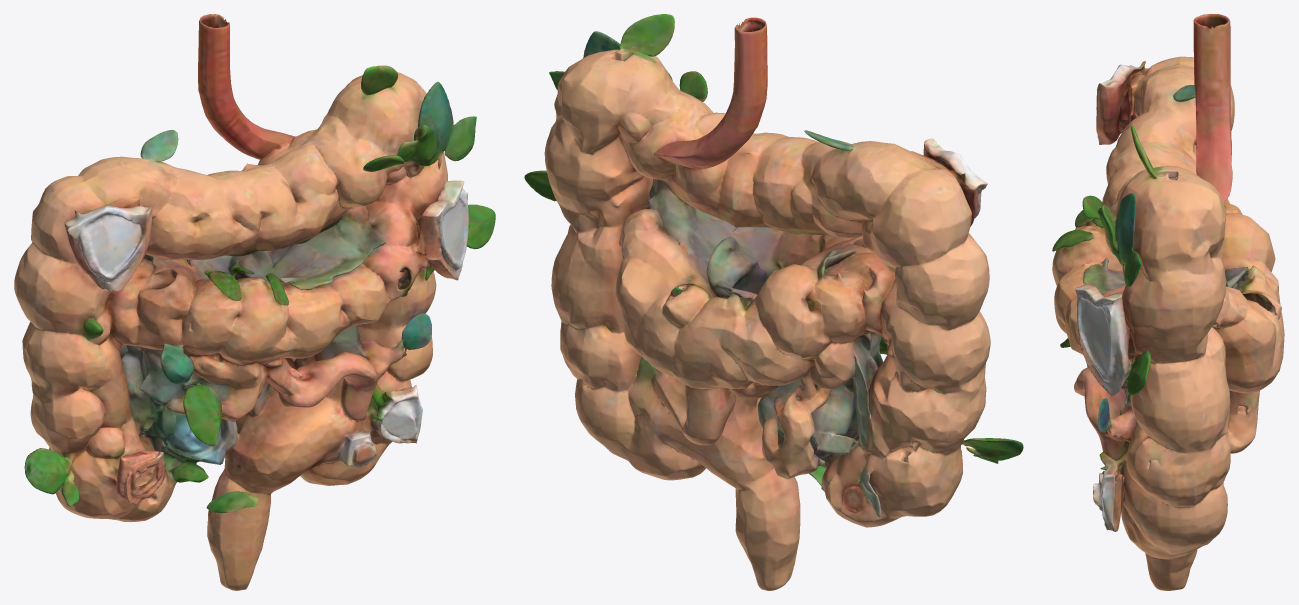
File: PrevencionCrohn.glb
The picture shows the model from 3 angles, left to right: view 1: azimuth 30°, elevation 25°; view 2: azimuth 150°, elevation 25°; view 3: azimuth 270°, elevation 25°; orthographic projection. The views are drawn at different scales.
Parts seen in each view (by area): view 1: Prevencion; view 2: Prevencion; view 3: Prevencion.
Boxes of the visible parts, bbox=[...] form: Prevencion: bbox=[14, 14, 495, 590]; Prevencion: bbox=[524, 14, 1023, 590]; Prevencion: bbox=[1052, 14, 1284, 590].
Size of the model in its own units: 1.79 by 2 by 0.7408.
Materials: 1 (1 with a texture image).
